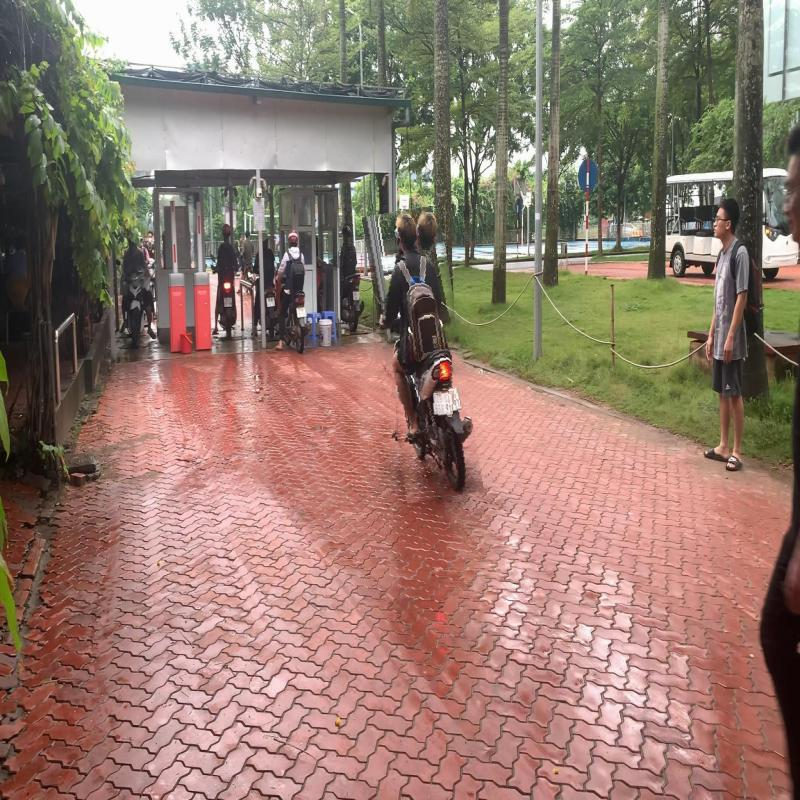licenseplate: (431, 390, 454, 416)
motorcyclist: (373, 207, 473, 501)
nohelmet: (415, 211, 438, 251)
